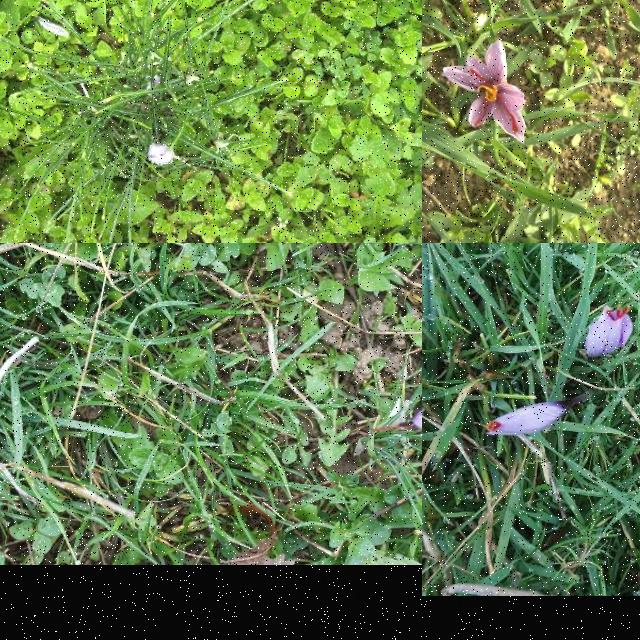flower: (444, 41, 526, 145), (488, 402, 566, 436), (585, 306, 635, 358), (148, 143, 176, 167)
